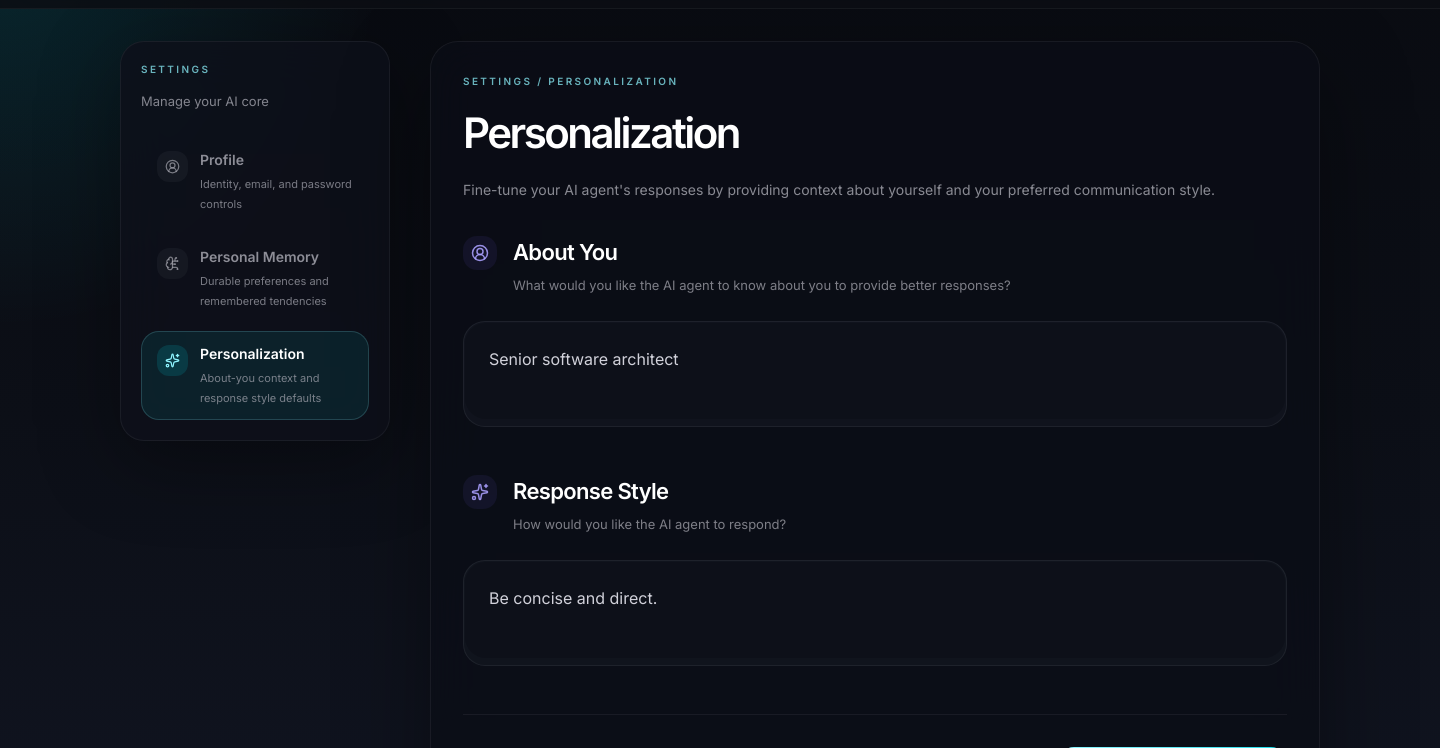
Test: renders personalization editor and saves grouped instruction fields
The image size is (1440, 748).
Expected: the heading "Personalization" is shown, [463,107,739,158]
Expected: the text box named "Response Style" holds "Be concise and direct.", [465,562,1285,658]
Replace the text in the text box named "About You" with "Senior software architect focused on AI agents". click: (875, 371)
box: [465,323,1285,419]
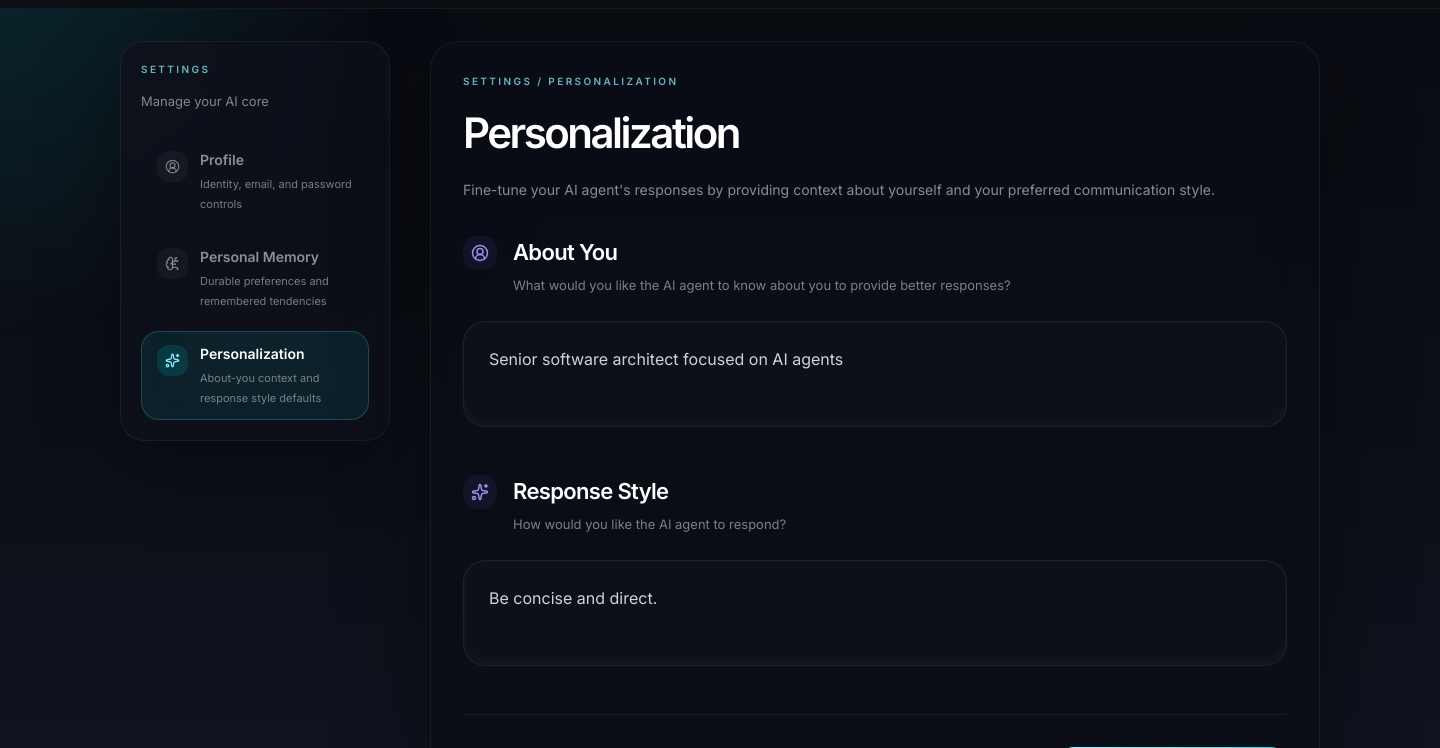
Replace the text in the text box named "Response Style" with "Use bullet points and stay concise.". click: (875, 610)
box: [465,562,1285,658]
(page scrolled)
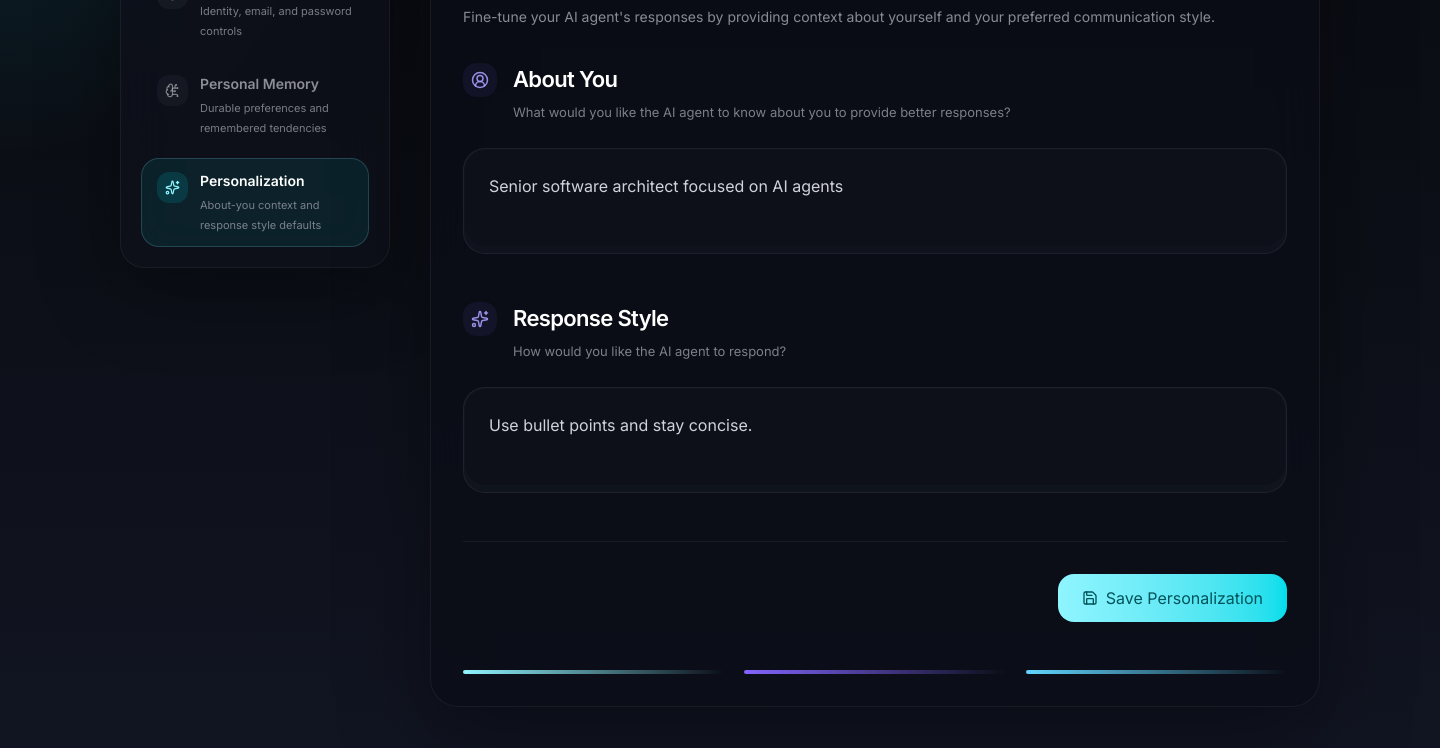
Click the button "Save Personalization". click: click(1172, 598)
box: [1058,574,1287,622]
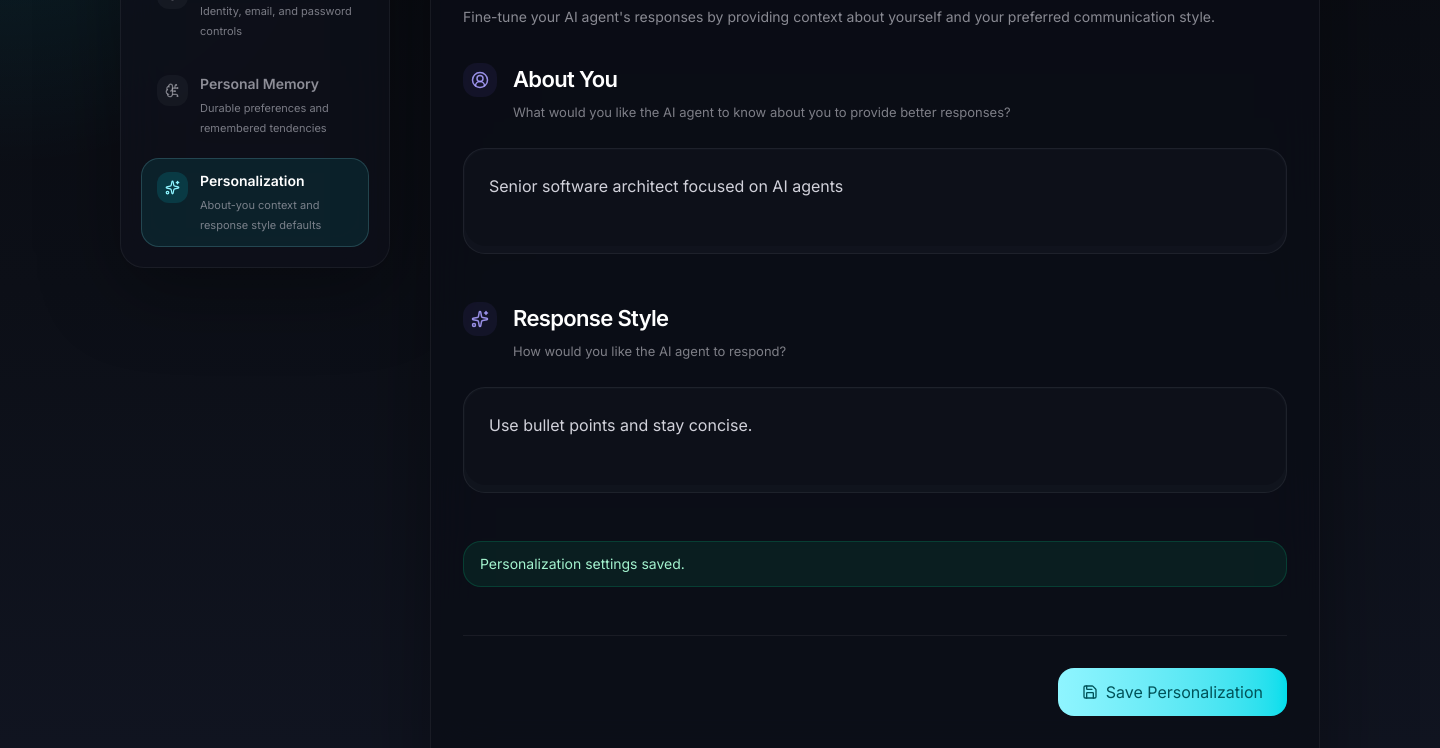
Now the text "Personalization settings saved." is shown, box [463,541,1287,587]
